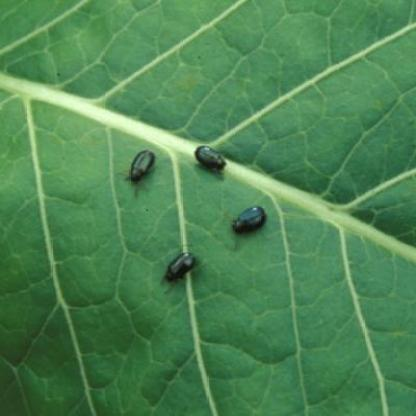beetle: (159, 247, 202, 288), (126, 145, 156, 198), (232, 206, 276, 242), (192, 143, 235, 176)
